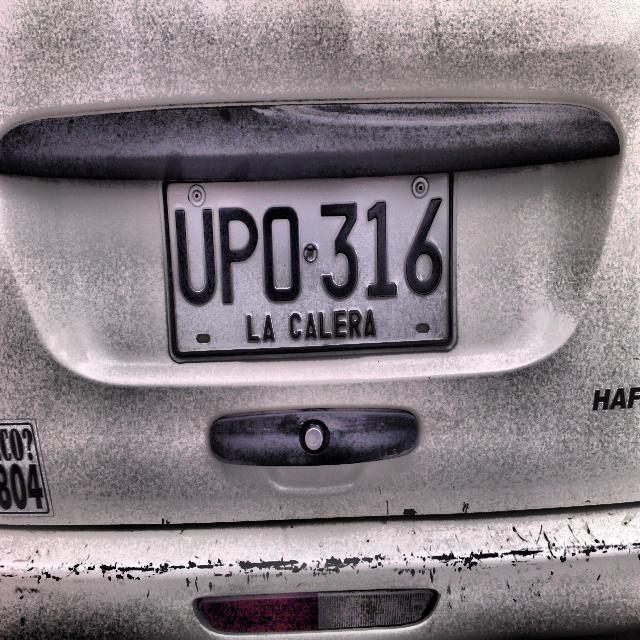plate: (160, 172, 457, 364)
